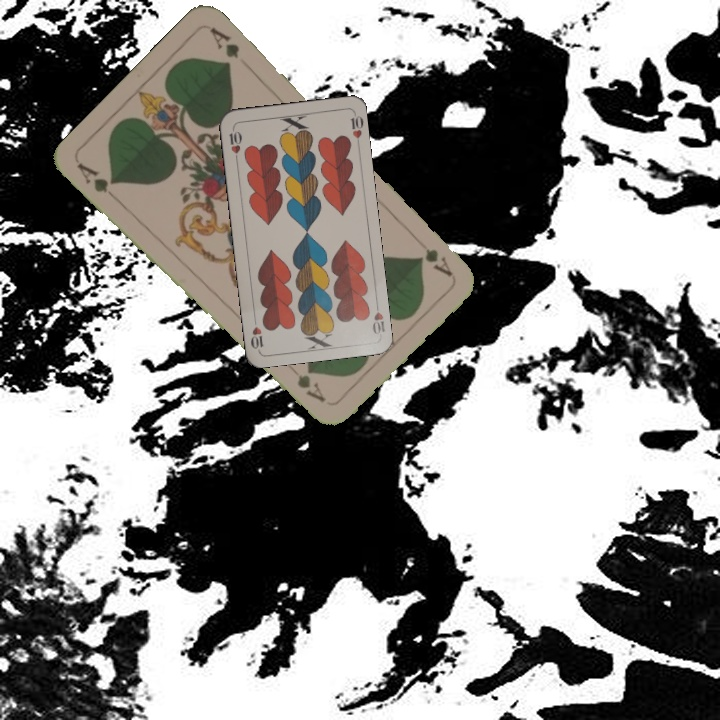GA: (73, 159, 122, 204), (421, 245, 455, 279)
H10: (225, 124, 244, 164), (368, 297, 387, 337)
